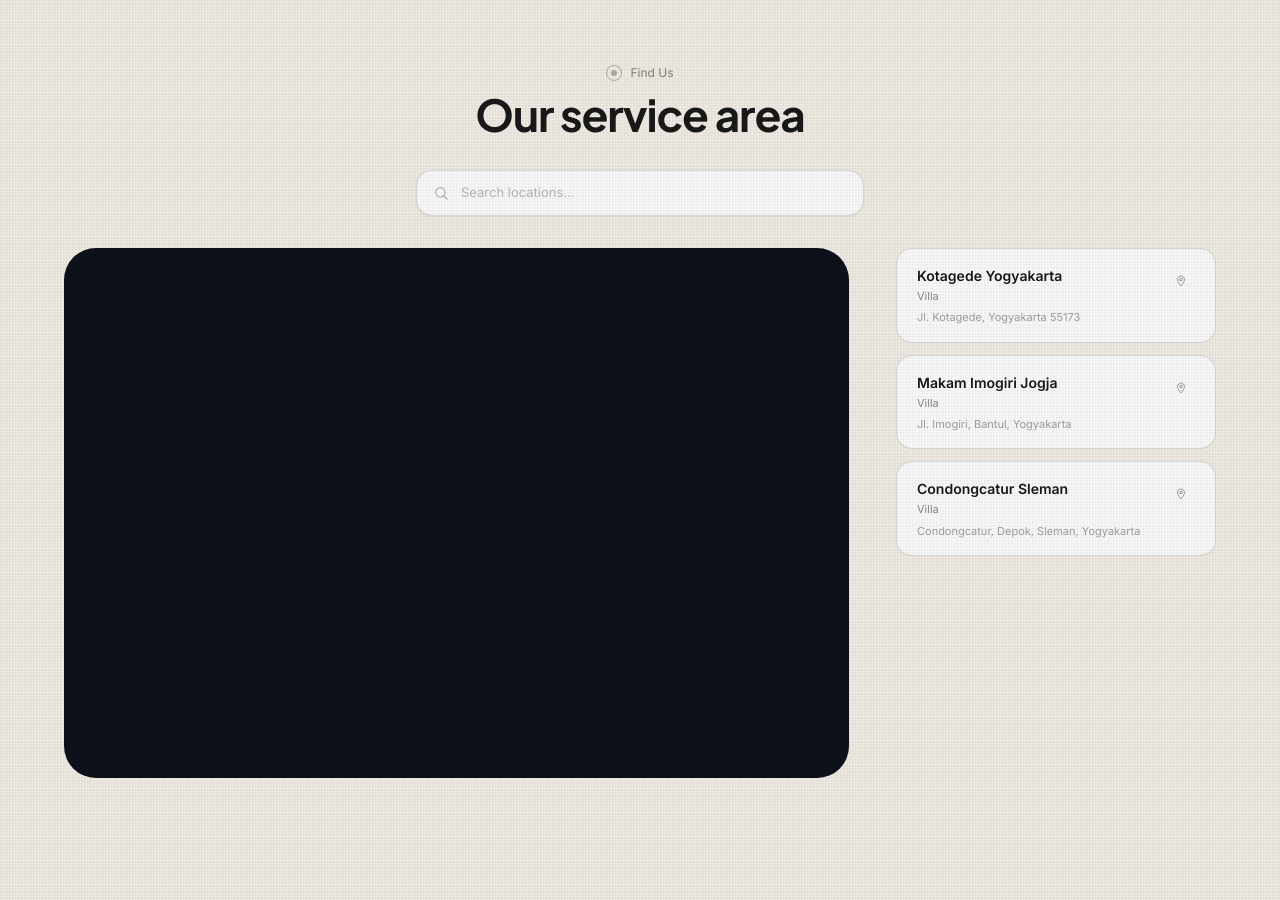
Scenario: Map interaction logic › clicking Show all locations resets map and all markers to default
The width and height of the screenshot is (1280, 900).
First activate a location so the button appears
Click the text "Kotagede Yogyakarta".
click(999, 275)  # box x1=917 y1=265 x2=1080 y2=286
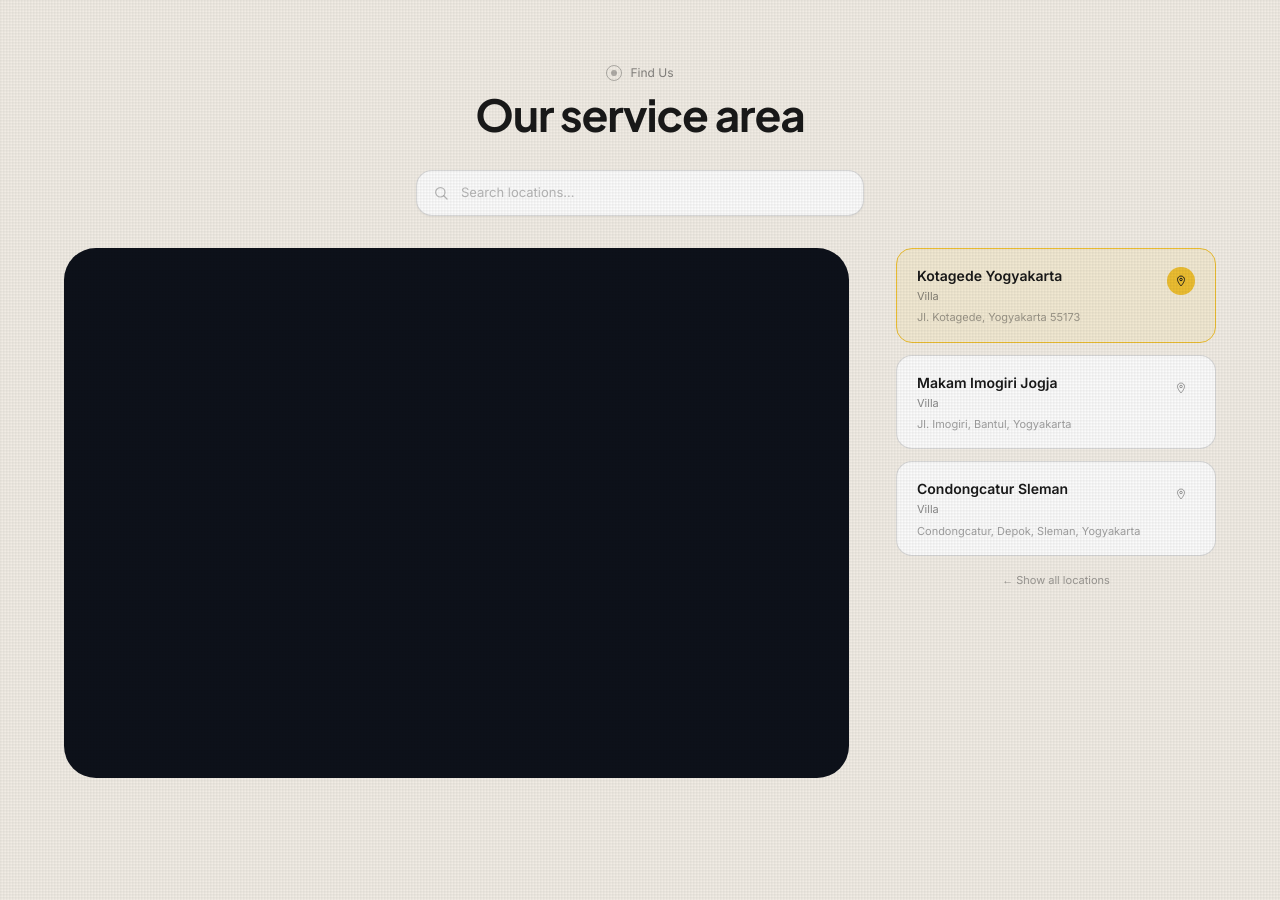
Check: the button "← Show all locations" is shown
Click it
Click the button "← Show all locations".
click(1056, 580)  # box x1=896 y1=572 x2=1216 y2=588
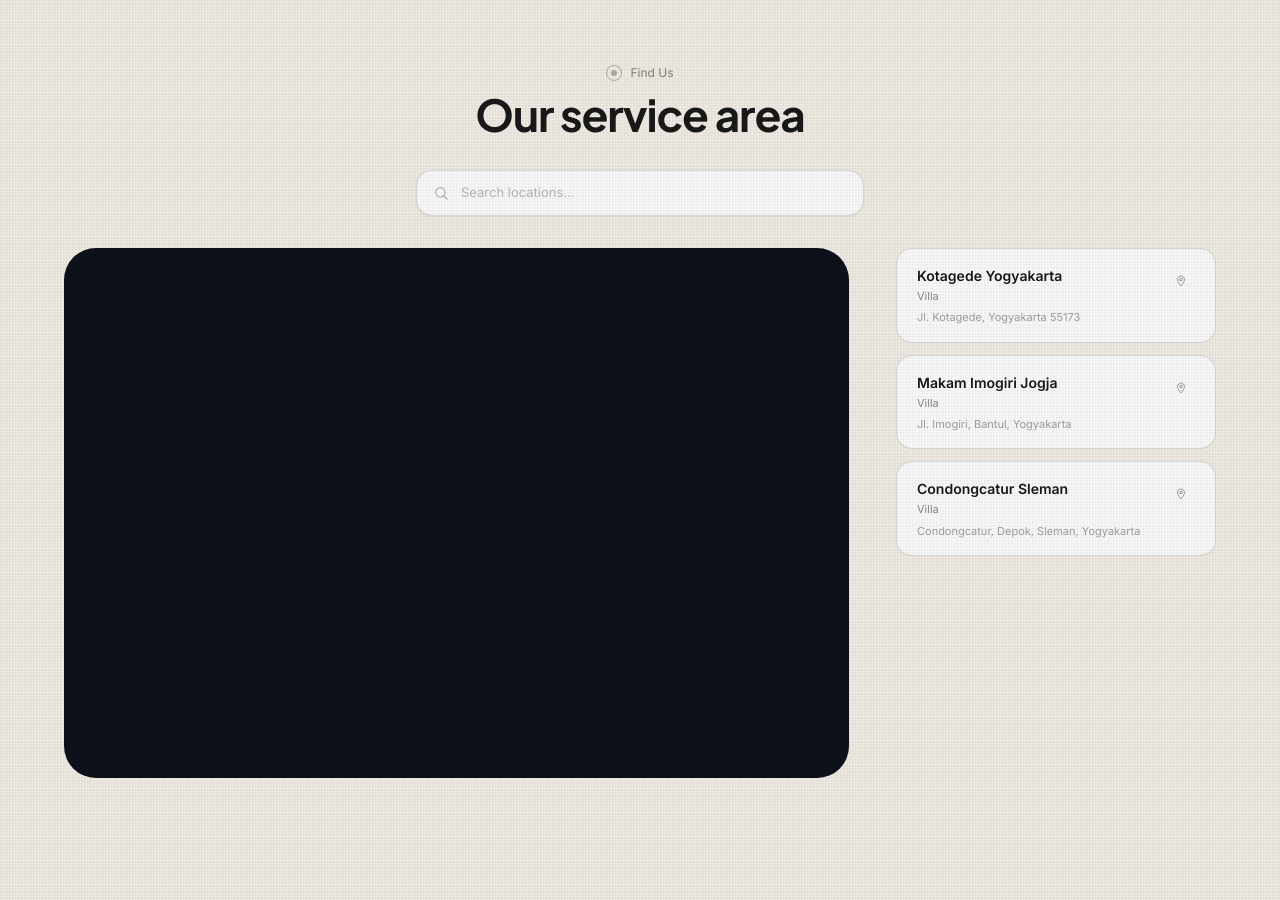
Check: the button "← Show all locations" is gone
